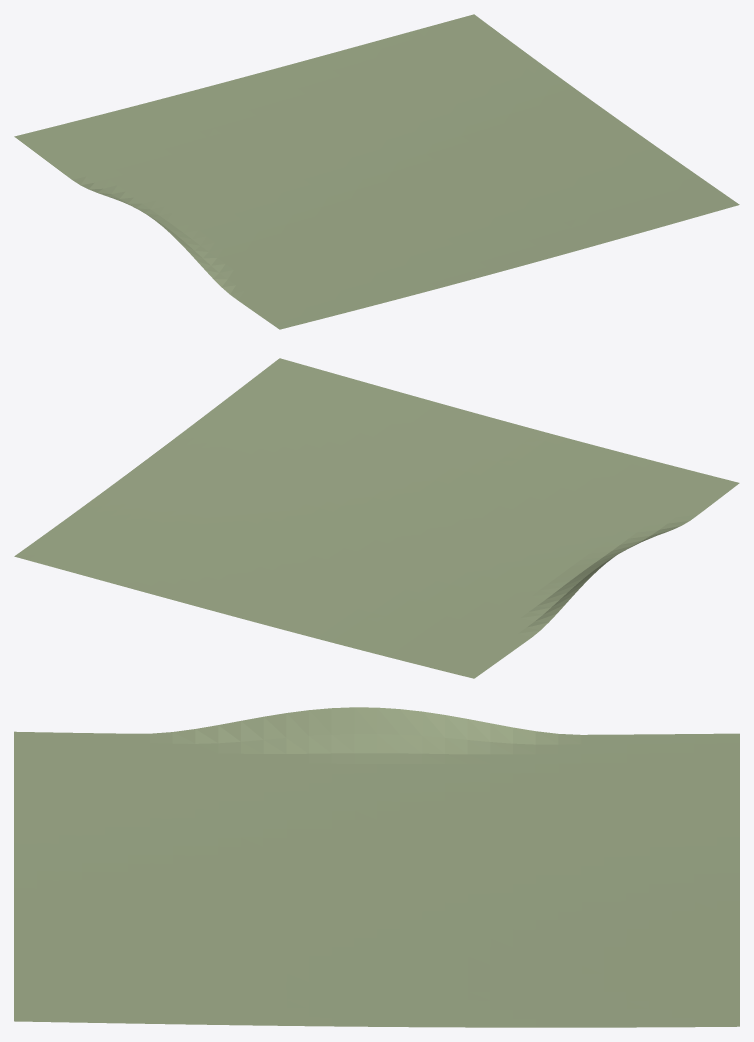
The model's file is expanse-21-6.glb.
The picture shows the model from 3 angles, top to bottom: view 1: azimuth 30°, elevation 25°; view 2: azimuth 150°, elevation 25°; view 3: azimuth 270°, elevation 25°; orthographic projection. The views are drawn at different scales.
Visible parts, largest first — view 1: expanse-21-6; view 2: expanse-21-6; view 3: expanse-21-6.
Part boxes in pixels (x1,y1,x2,y2): expanse-21-6: (14,14,739,329); expanse-21-6: (14,358,739,678); expanse-21-6: (14,707,739,1027).
Bounding box in the file's own units: 256 × 10.86 × 256.
